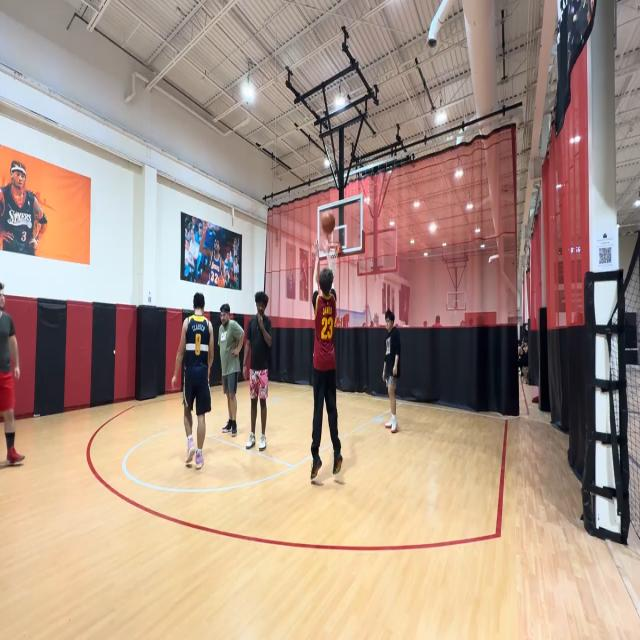Basketball: (322, 210, 336, 234)
Basketball Rim: (330, 240, 340, 272)
Player: (311, 240, 343, 486), (174, 291, 214, 478), (242, 290, 272, 456), (0, 280, 21, 474), (217, 302, 243, 436), (382, 308, 400, 433)
